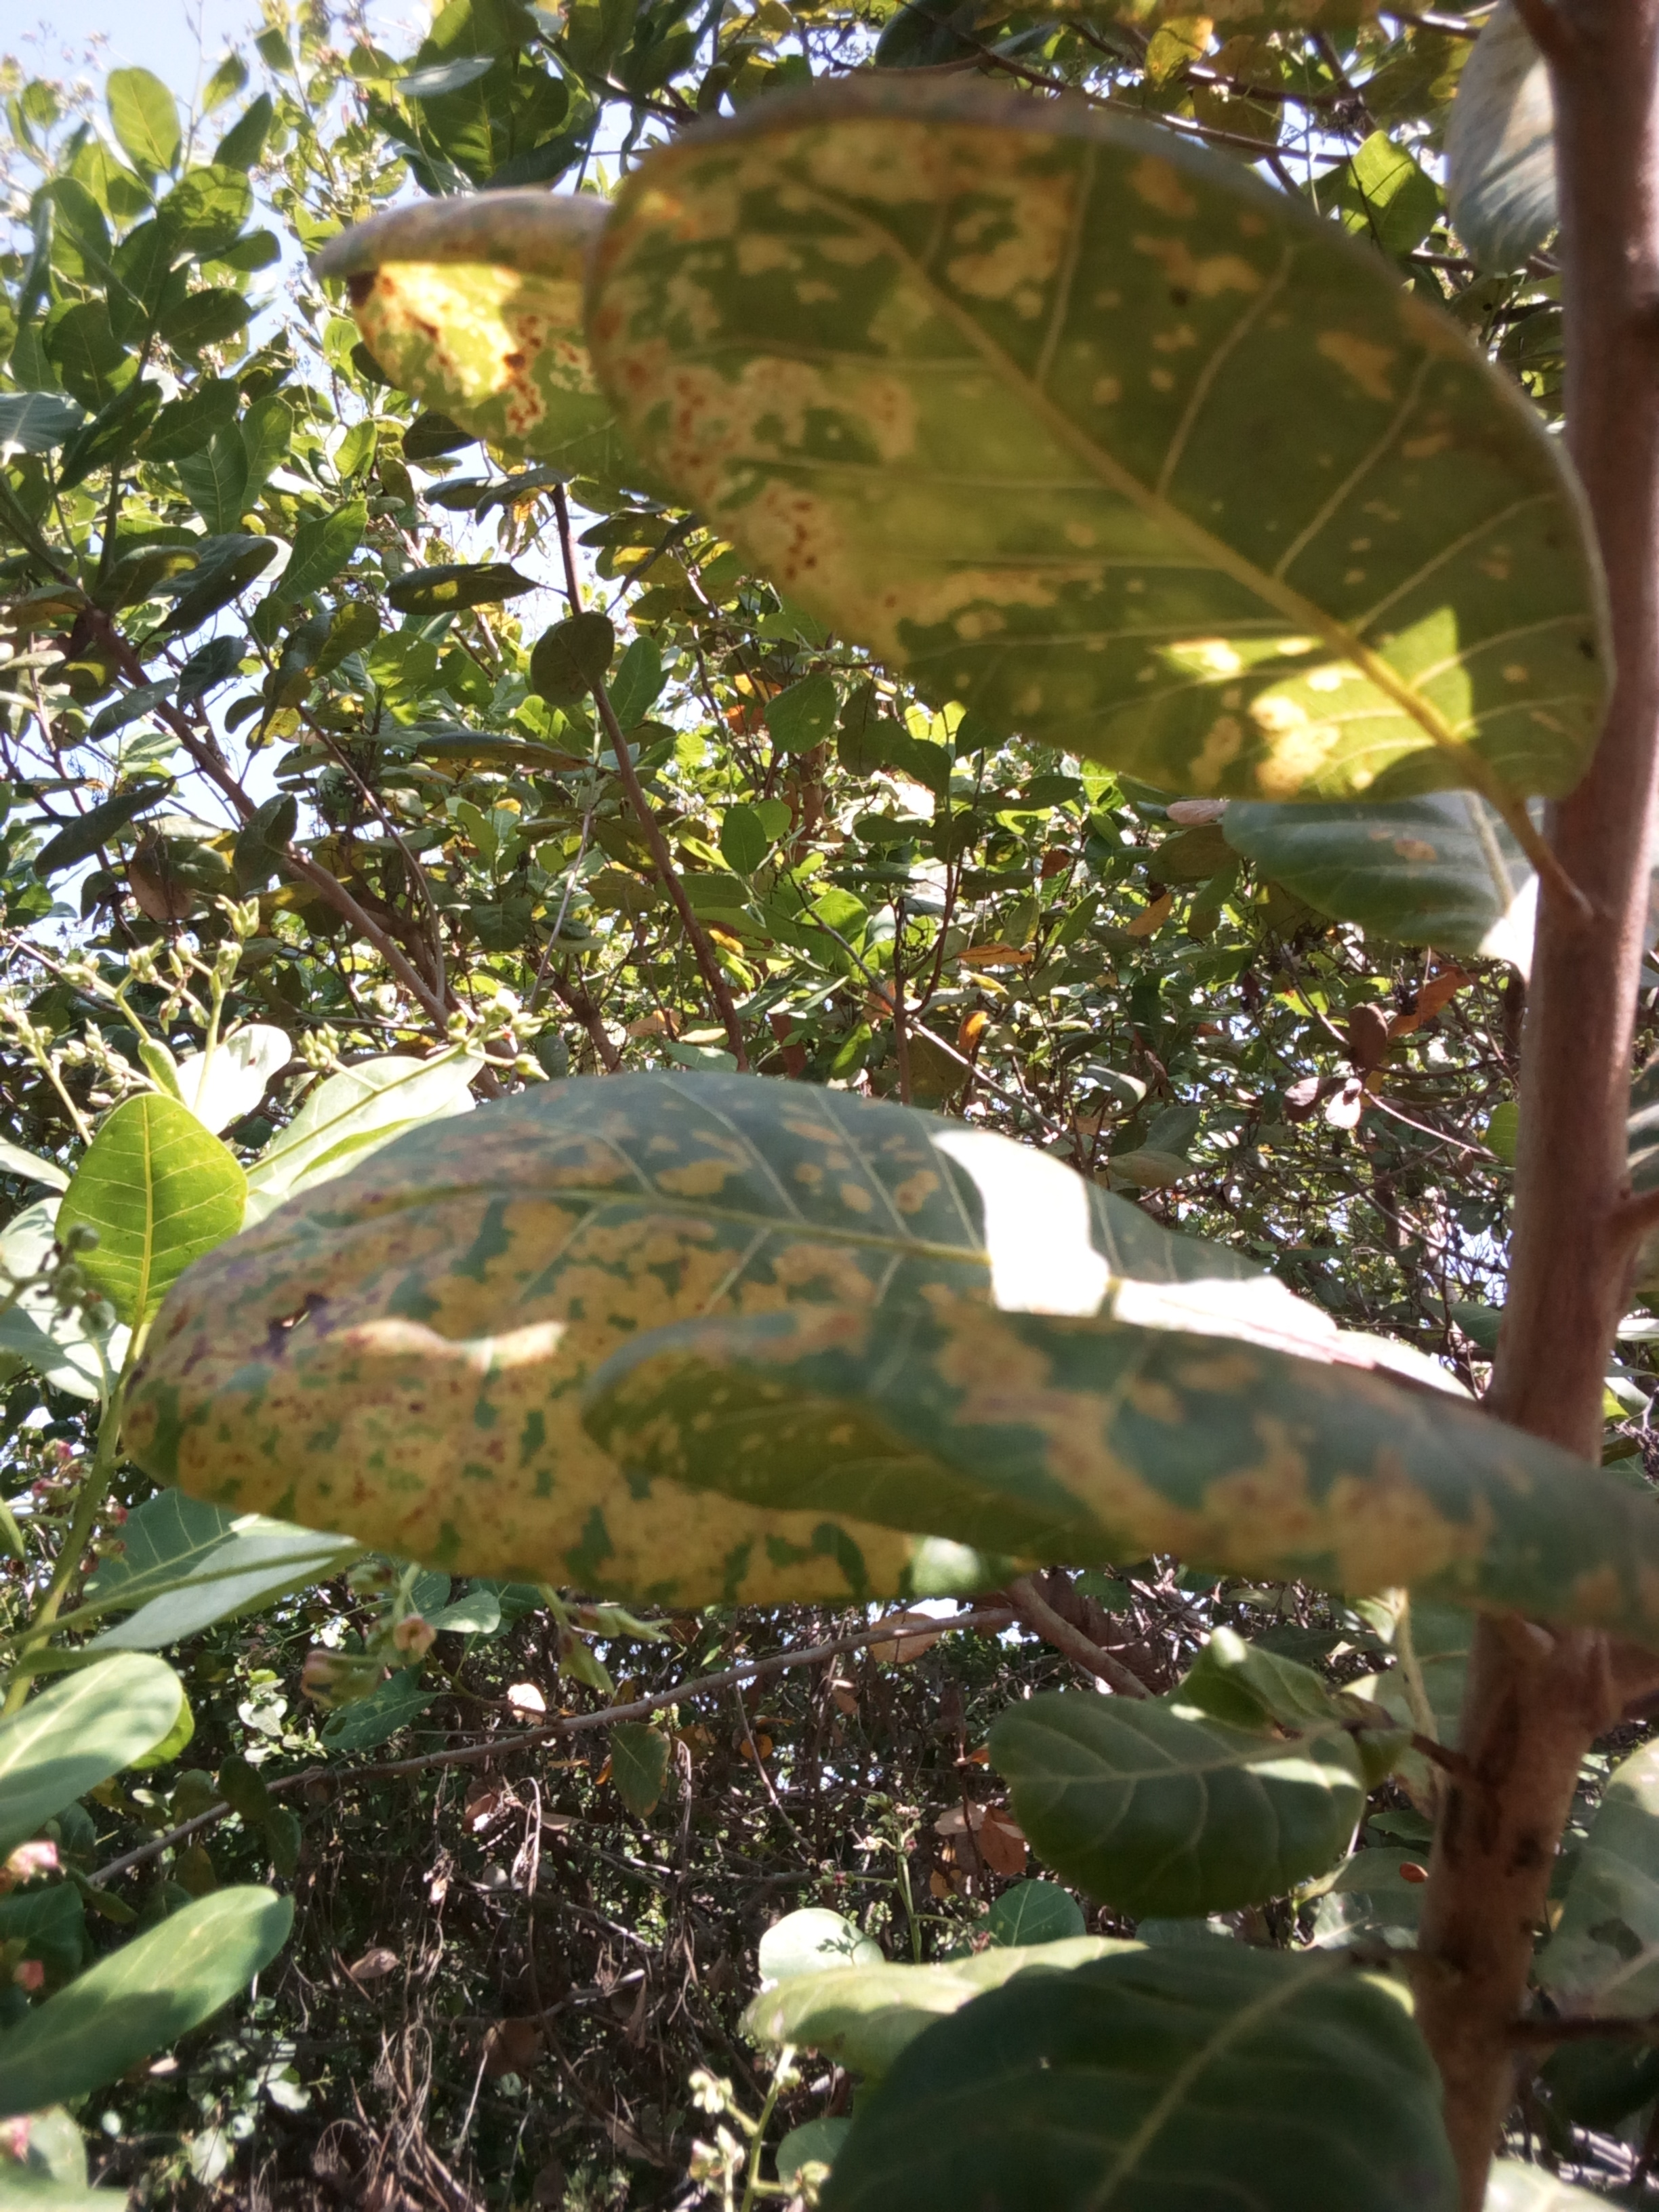Carence minérale: (593, 73, 1622, 826), (91, 1092, 941, 1625), (552, 1306, 1650, 1698), (349, 178, 633, 526)
